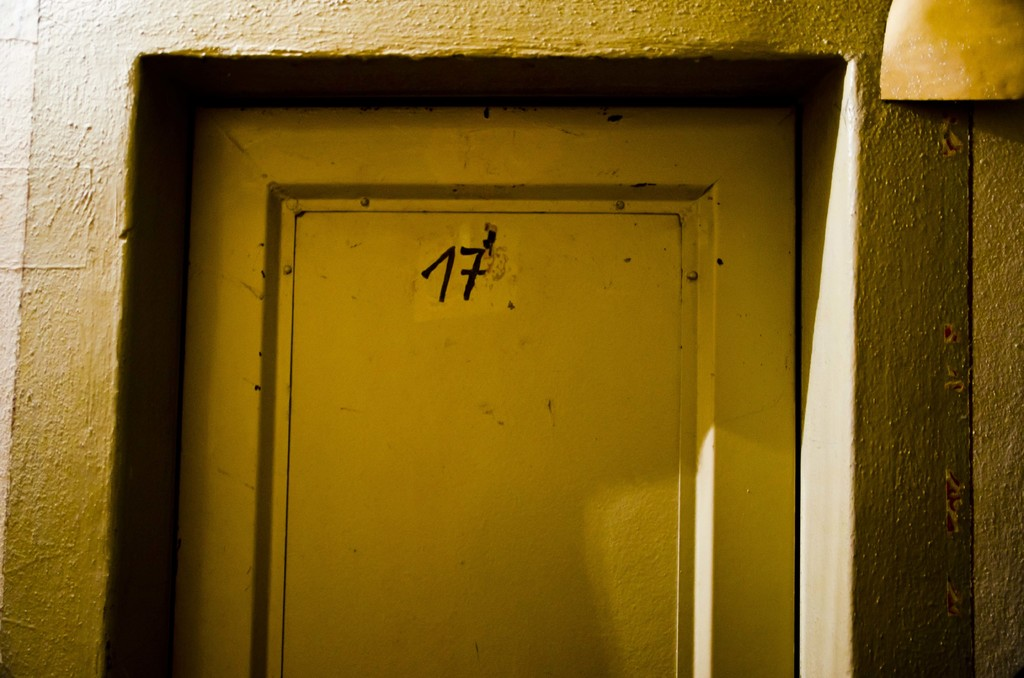door: (282, 196, 704, 678)
